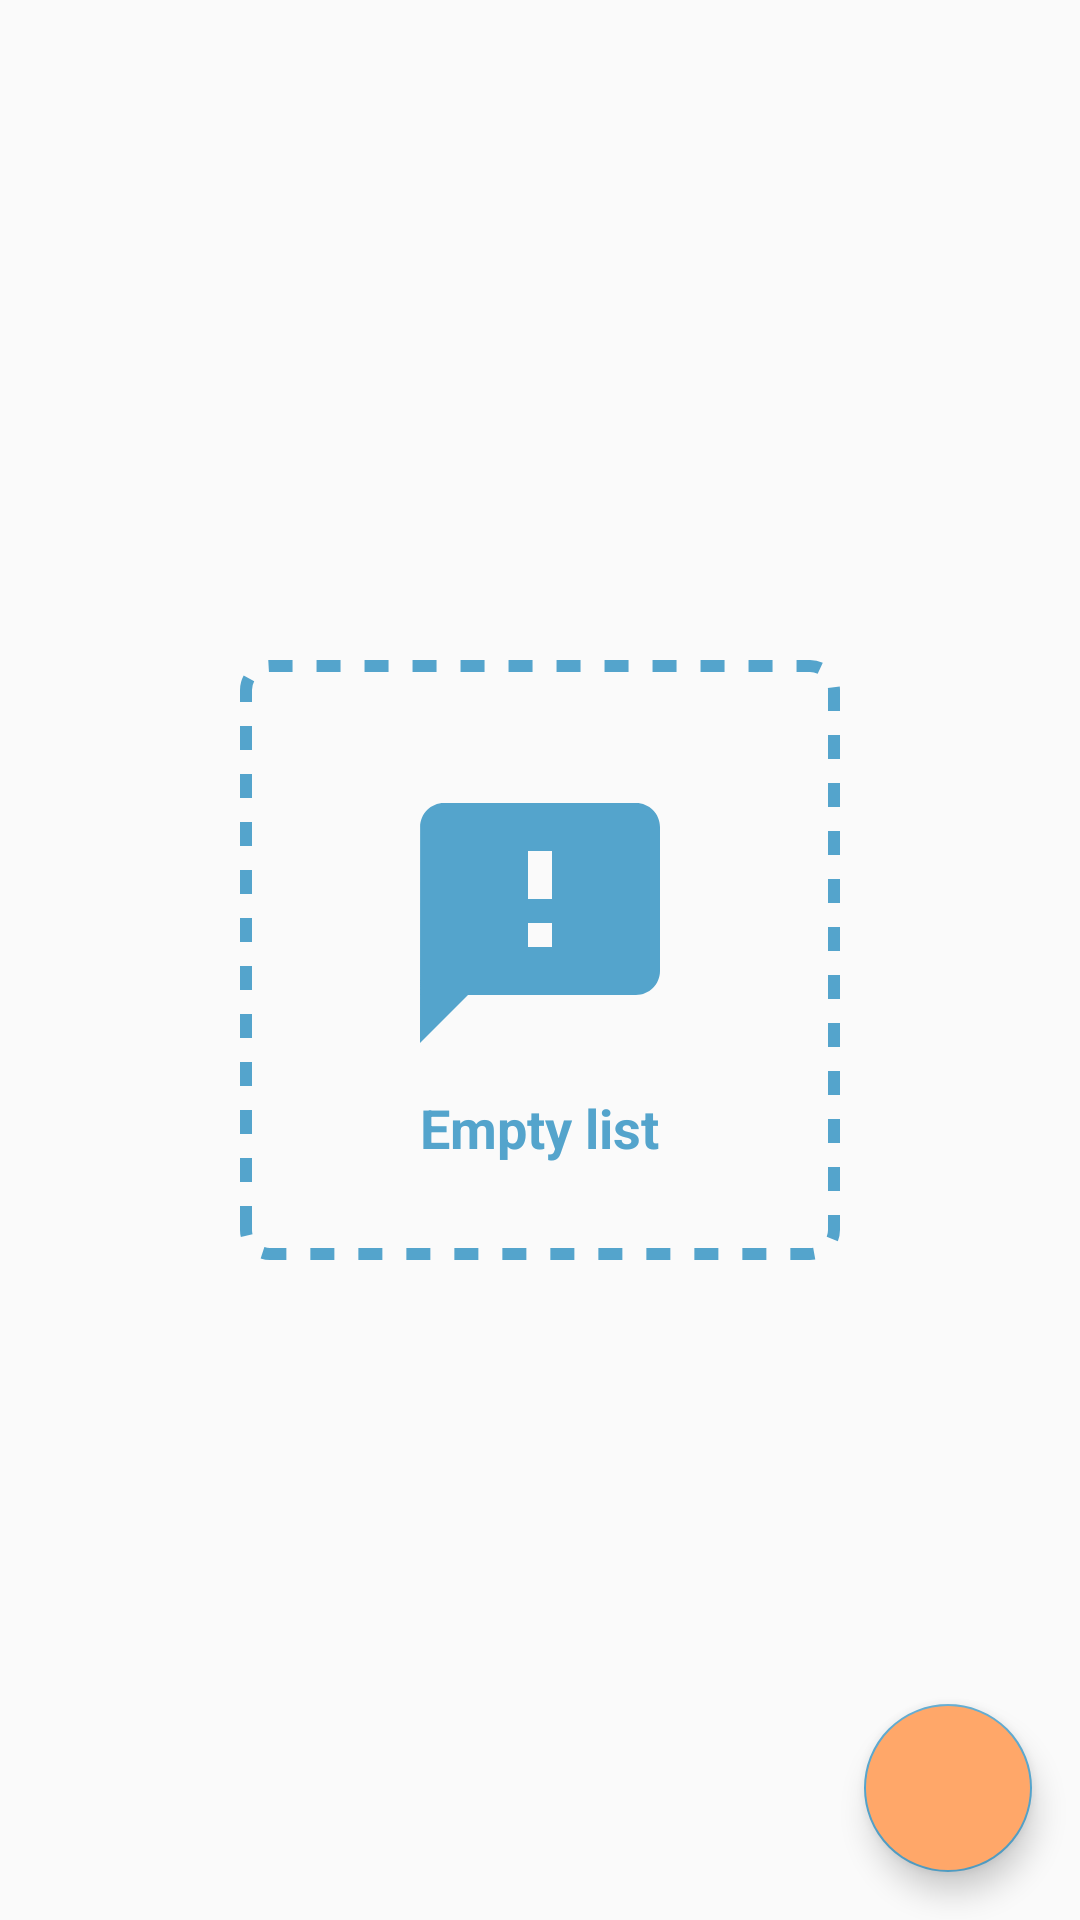

Named icons in this screenshot (1080 x 1920) and their centers, point (x, y):
feedback: point (540, 923)
